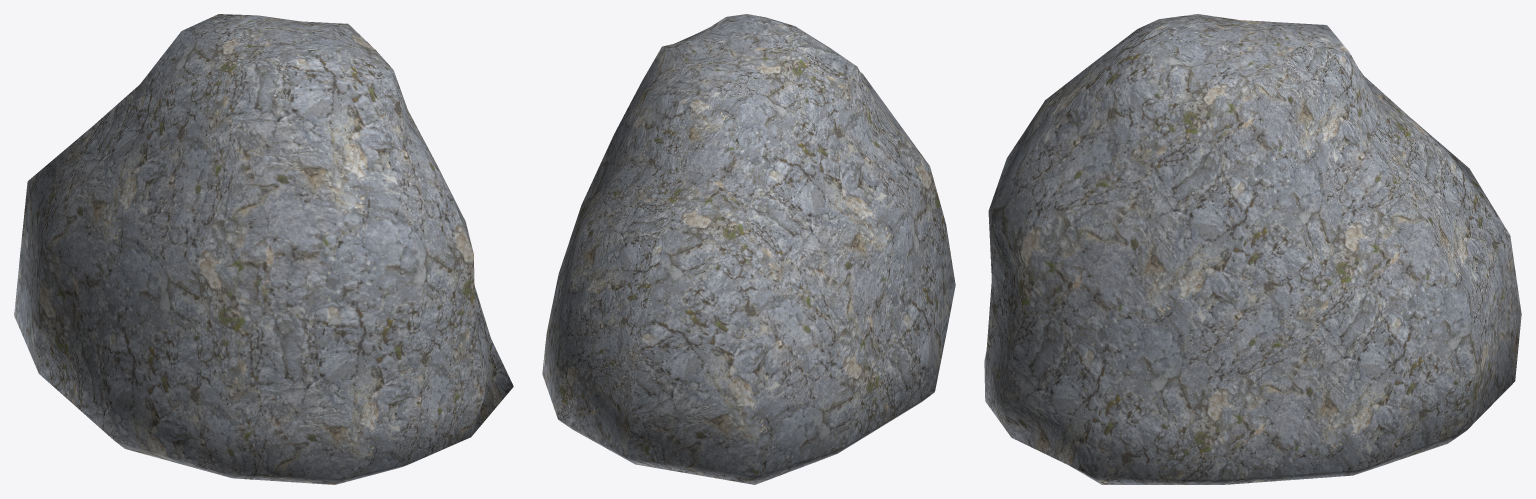
File: GardenStone03.fbx
The picture shows the model from 3 angles, left to right: view 1: azimuth 30°, elevation 25°; view 2: azimuth 150°, elevation 25°; view 3: azimuth 270°, elevation 25°; orthographic projection. The views are drawn at different scales.
Parts seen in each view (by area): view 1: GardenStone03; view 2: GardenStone03; view 3: GardenStone03.
Boxes of the visible parts, <box> form: GardenStone03: <box>14,14,513,484</box>; GardenStone03: <box>542,14,955,484</box>; GardenStone03: <box>984,14,1521,484</box>.
Size of the model in its own units: 330 by 318 by 411.
